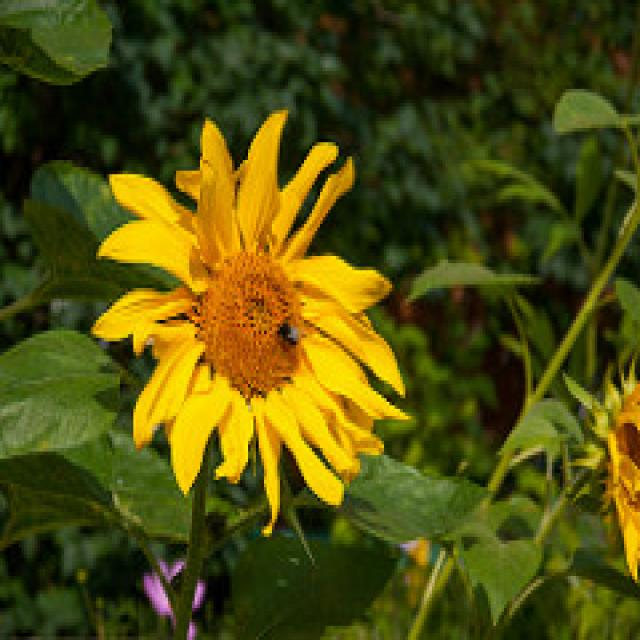sunflower: (92, 100, 407, 513)
